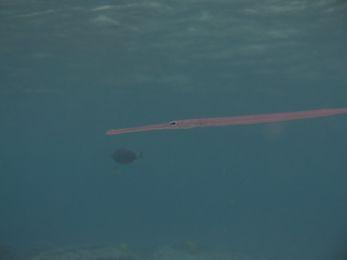Fistularia commersonii: (75, 107, 347, 141)
